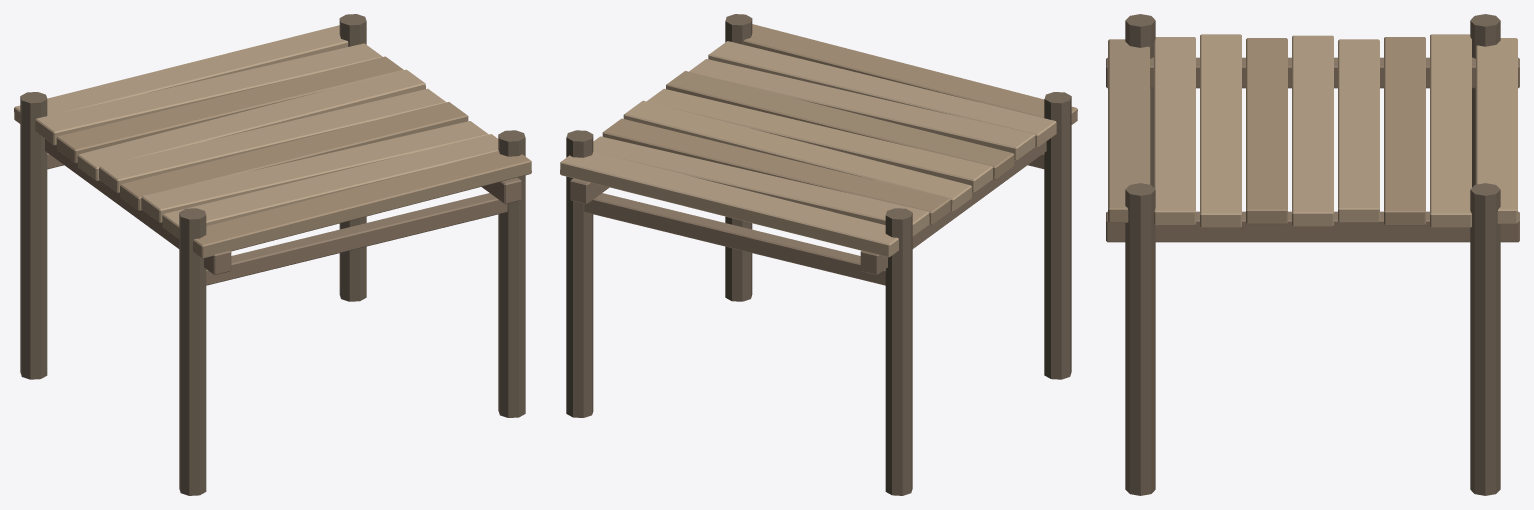
File: dock-square.glb
3 renders of one model, left to right at view 1: azimuth 30°, elevation 25°; view 2: azimuth 150°, elevation 25°; view 3: azimuth 270°, elevation 25°, orthographic. The views are drawn at different scales.
Visible parts, largest first — view 1: dock_plank_00, dock_post_1_-1, dock_post_0_-1, dock_plank_05, dock_plank_03, dock_plank_06, dock_plank_04, dock_plank_07, dock_plank_02, dock_crossbeam_0, dock_post_0_1, dock_plank_01 (+4 smaller); view 2: dock_plank_08, dock_post_0_-1, dock_post_1_-1, dock_plank_05, dock_plank_03, dock_plank_06, dock_plank_01, dock_plank_04, dock_plank_02, dock_crossbeam_1, dock_post_1_1, dock_plank_07 (+4 smaller); view 3: dock_post_0_1, dock_post_1_1, dock_plank_02, dock_plank_07, dock_plank_04, dock_plank_06, dock_plank_01, dock_plank_03, dock_plank_05, dock_plank_08, dock_plank_00, dock_stringer_1 (+3 smaller).
Part boxes in pixels (x1,y1,x2,y2): dock_plank_00: [193, 150, 531, 258]; dock_post_1_-1: [20, 92, 47, 379]; dock_post_0_-1: [179, 208, 206, 495]; dock_plank_05: [77, 69, 425, 181]; dock_plank_03: [120, 102, 468, 210]; dock_plank_06: [56, 56, 403, 163]; dock_plank_04: [99, 88, 446, 193]; dock_plank_07: [35, 43, 382, 145]; dock_plank_02: [141, 121, 488, 222]; dock_crossbeam_0: [206, 193, 507, 285]; dock_post_0_1: [498, 130, 525, 417]; dock_plank_01: [162, 134, 498, 238]; dock_plank_08: [560, 152, 898, 257]; dock_post_0_-1: [1044, 92, 1071, 379]; dock_post_1_-1: [885, 208, 912, 495]; dock_plank_05: [623, 100, 971, 212]; dock_plank_03: [666, 71, 1014, 179]; dock_plank_06: [602, 118, 950, 225]; dock_plank_01: [708, 41, 1056, 147]; dock_plank_04: [646, 88, 992, 193]; dock_plank_02: [689, 59, 1035, 160]; dock_crossbeam_1: [584, 193, 885, 285]; dock_post_1_1: [566, 130, 593, 417]; dock_plank_07: [593, 136, 929, 236]; dock_post_0_1: [1125, 183, 1155, 495]; dock_post_1_1: [1470, 183, 1500, 495]; dock_plank_02: [1200, 34, 1241, 227]; dock_plank_07: [1430, 34, 1471, 227]; dock_plank_04: [1292, 35, 1333, 226]; dock_plank_06: [1384, 37, 1425, 225]; dock_plank_01: [1154, 37, 1195, 225]; dock_plank_03: [1246, 38, 1287, 224]; dock_plank_05: [1338, 39, 1379, 222]; dock_plank_08: [1476, 38, 1517, 224]; dock_plank_00: [1108, 39, 1149, 222]; dock_stringer_1: [1106, 211, 1519, 242].
Bounding box in the file's own units: 3.12 × 2.4 × 3.
